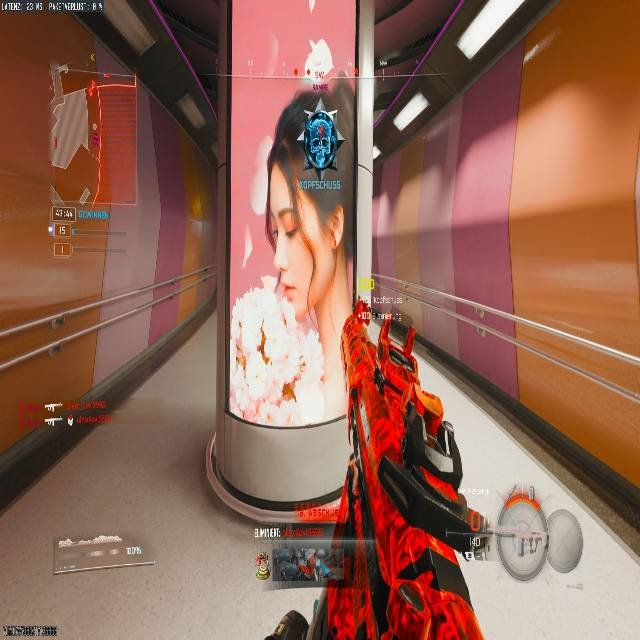player: (231, 278, 325, 423), (287, 94, 344, 180)
